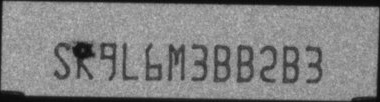2: (259, 43, 278, 82)
3: (305, 44, 324, 84), (191, 43, 208, 81)
6: (145, 42, 162, 81)
9: (100, 41, 116, 81)
B: (281, 45, 300, 84), (212, 43, 230, 83), (237, 42, 255, 82)
K: (75, 43, 94, 80)
L: (122, 42, 140, 80)
M: (168, 41, 186, 80)
S: (53, 42, 72, 80)
